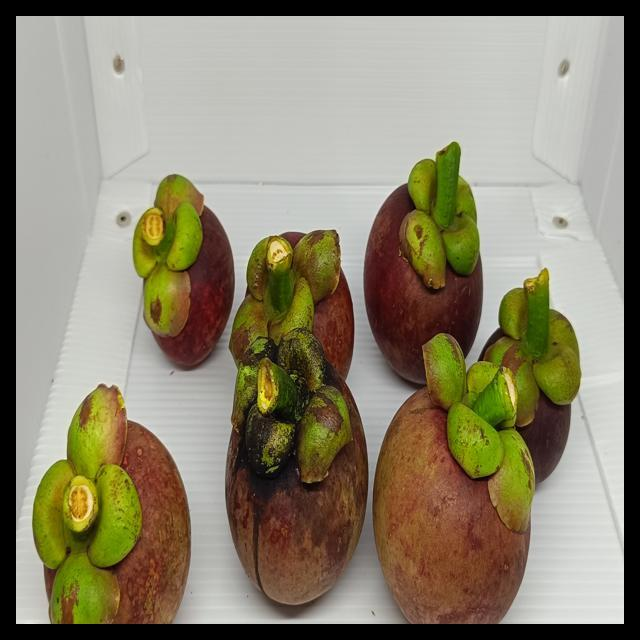mangosteen: (189, 327, 395, 605), (17, 379, 217, 624), (375, 357, 560, 613), (343, 142, 523, 370), (192, 187, 386, 369), (103, 153, 243, 355), (470, 273, 596, 472)
